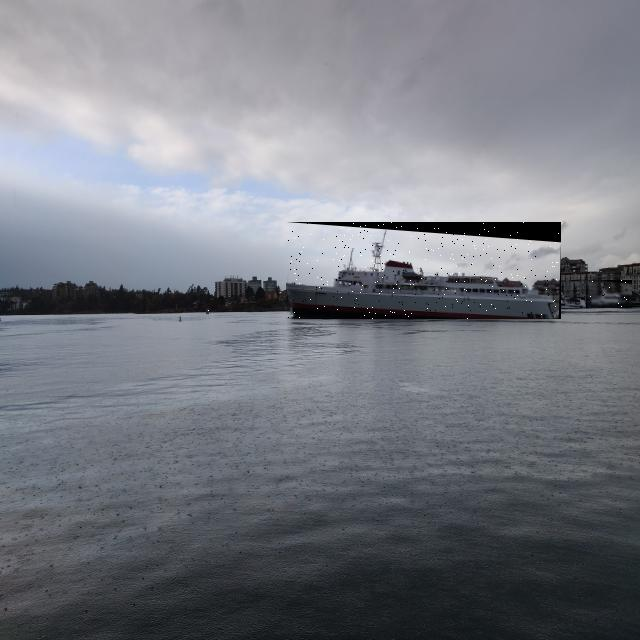boat: (286, 222, 561, 319), (586, 280, 632, 308)
mark: (179, 316, 182, 322), (206, 308, 209, 314)
